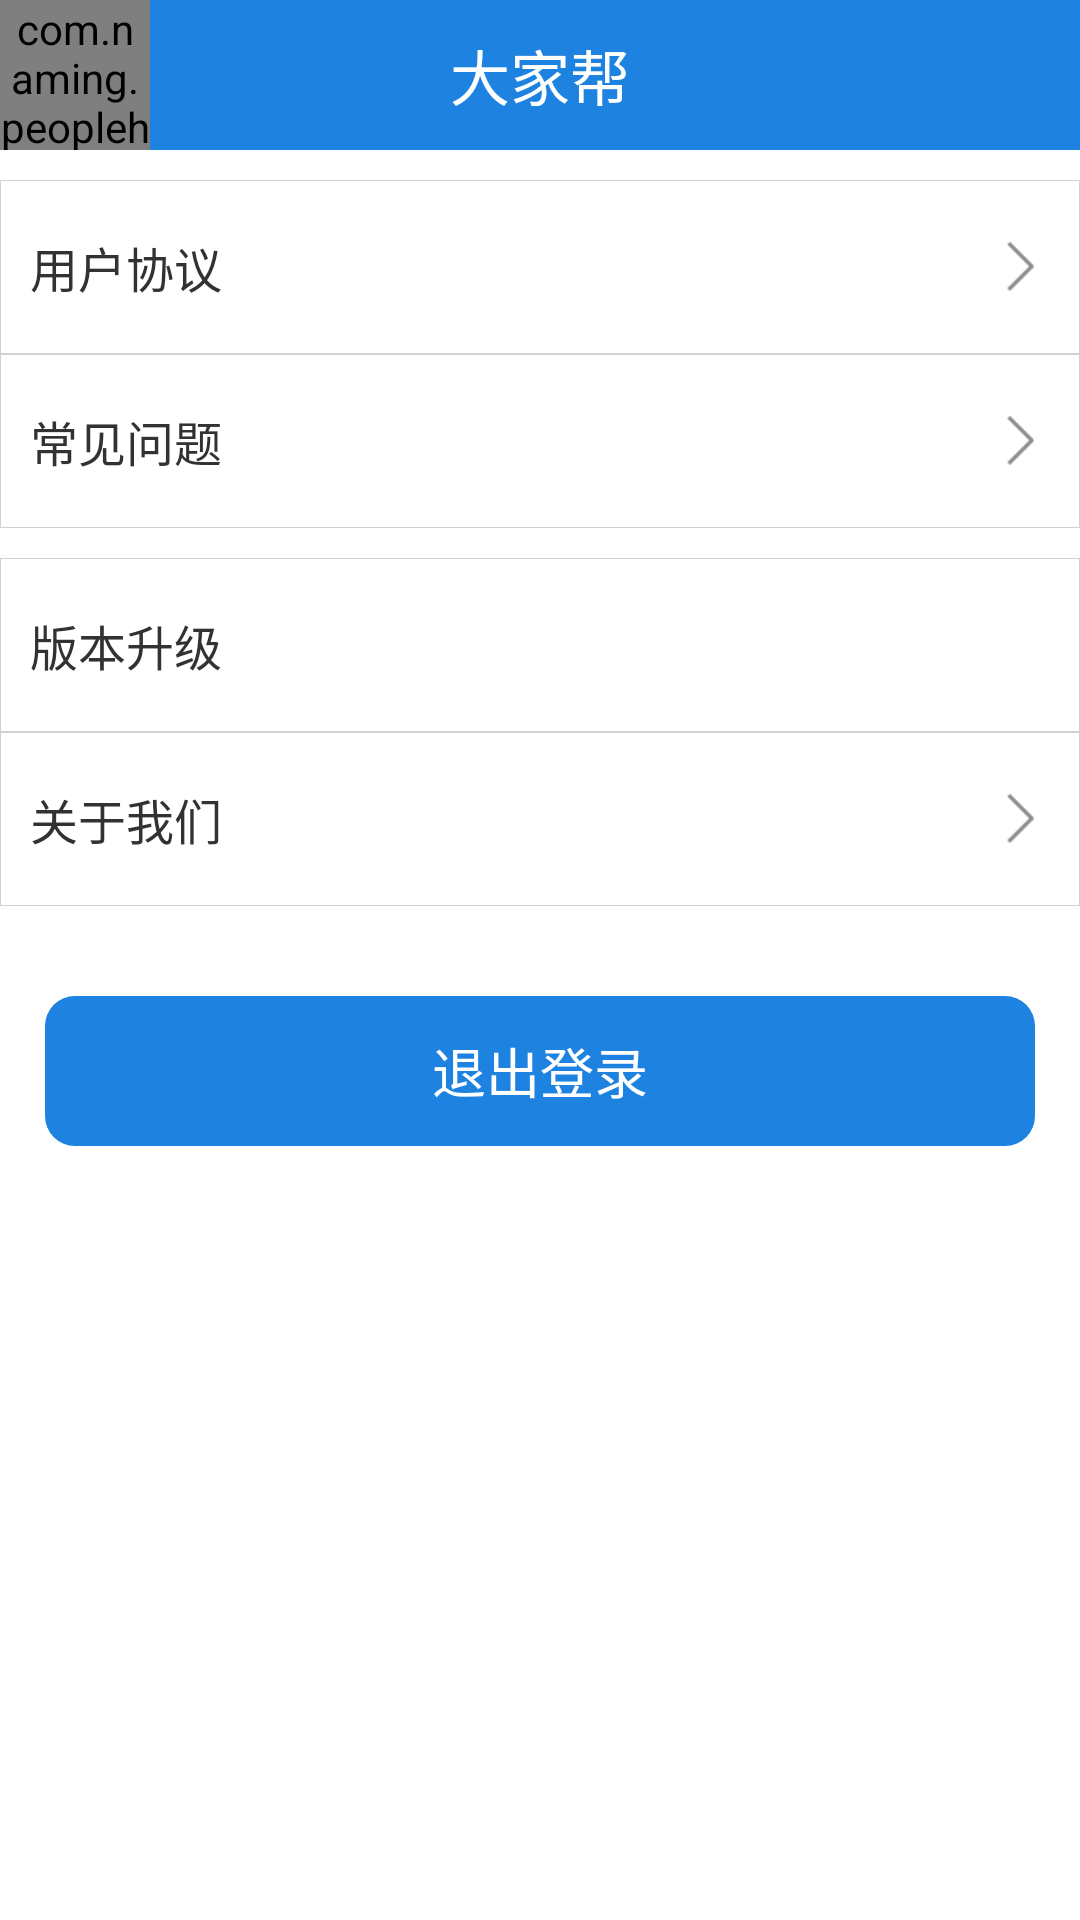

Locate icon controls on the screen. Image size 1080w x 1920h, boxes as rect(x1, y1, x2, y2).
forward: rect(1007, 242, 1034, 291), rect(1007, 416, 1034, 465), rect(1007, 794, 1034, 843)
